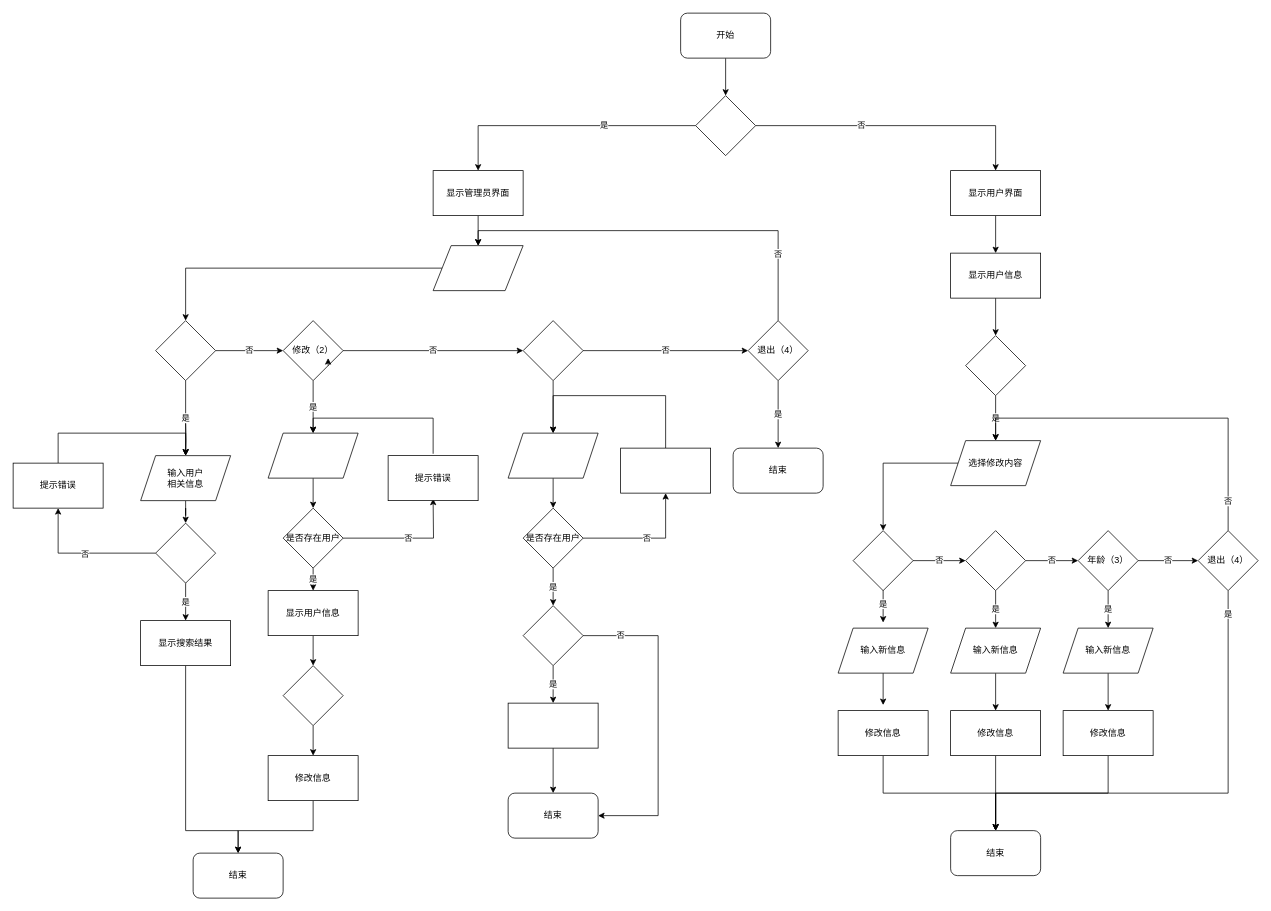
Image size: 1271x911. Some labels were removed from this diagram. The centre of each missing label's shape, as x and y in pixels:
删除用户文件信息: the point at 552,725
删除（3）: the point at 552,350
功能选择: the point at 477,268
姓名（2）: the point at 995,560
学号（1）: the point at 882,560
是否为管理员: the point at 725,125
是否修改: the point at 995,365
是否存在相关信息: the point at 185,552
查询（1）: the point at 185,350
确认删除: the point at 552,635
输入，选择需要修 改的用户id: the point at 312,455
输入，选择需要删除的用户id: the point at 552,455
输出错误: the point at 665,470
选择要修改的信息: the point at 312,695
